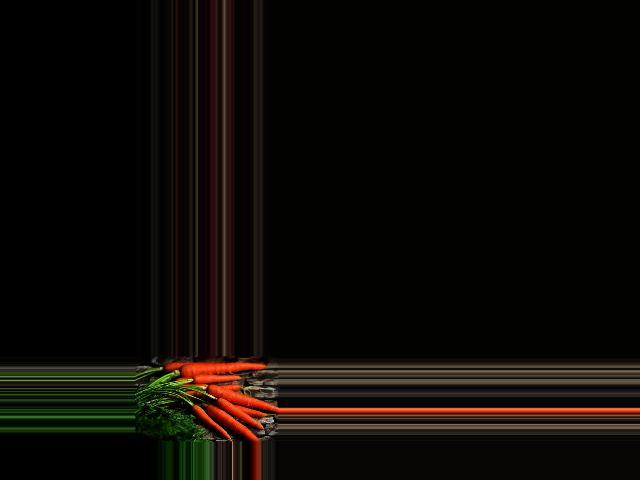carrot: (189, 404, 227, 438)
